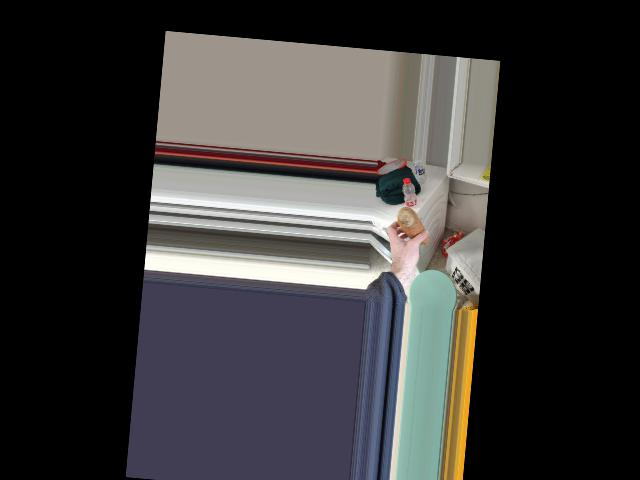sweet_potato: (397, 206, 432, 244)
